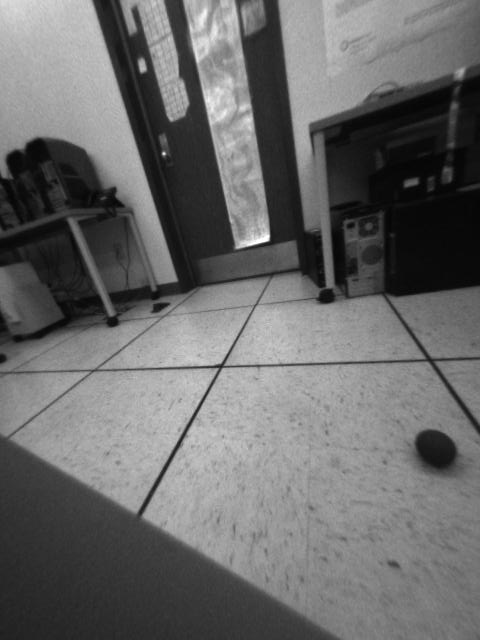dogtoy: (404, 421, 466, 475)
